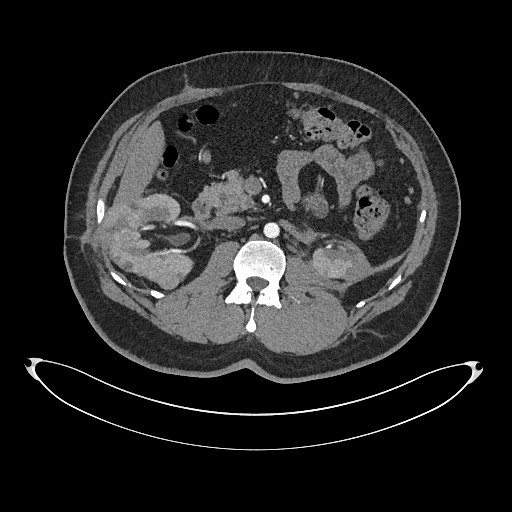Lesion: (154, 271, 184, 292)
